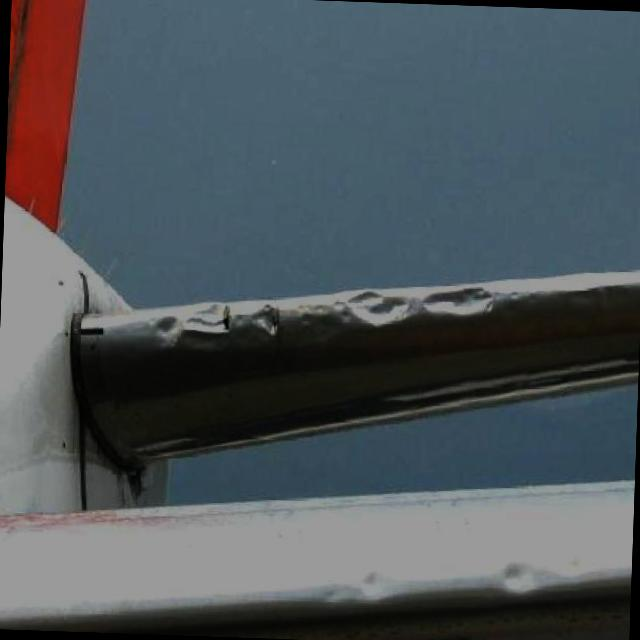dent: (343, 282, 420, 330), (322, 556, 393, 608), (420, 277, 496, 323), (343, 286, 420, 330), (423, 282, 495, 326), (188, 300, 236, 342), (190, 304, 233, 344), (246, 301, 284, 344), (352, 564, 392, 604), (500, 558, 540, 598), (492, 556, 530, 594), (351, 563, 387, 603), (252, 300, 282, 340), (147, 310, 181, 345), (151, 310, 185, 345), (294, 302, 312, 332), (312, 302, 328, 318)
